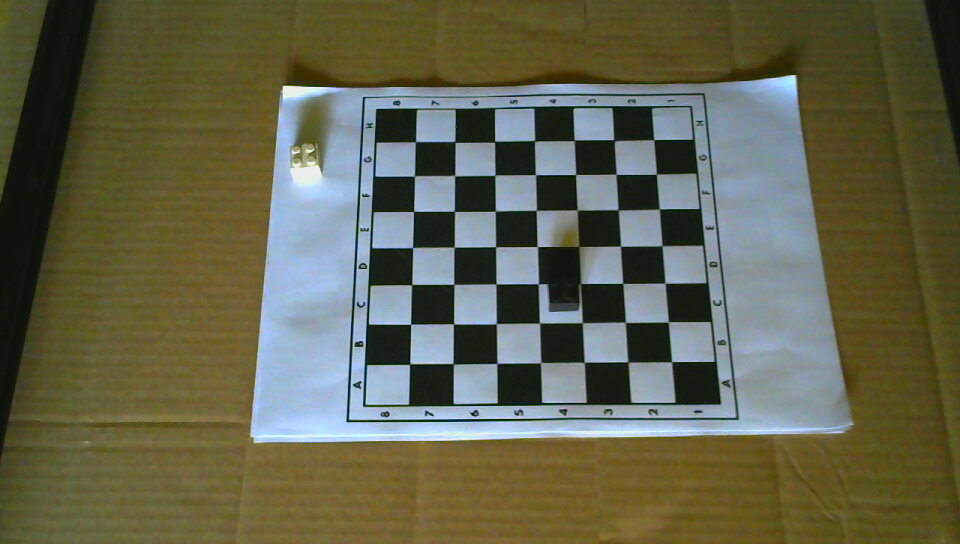bp: (547, 279, 579, 313)
wp: (287, 143, 323, 179)
